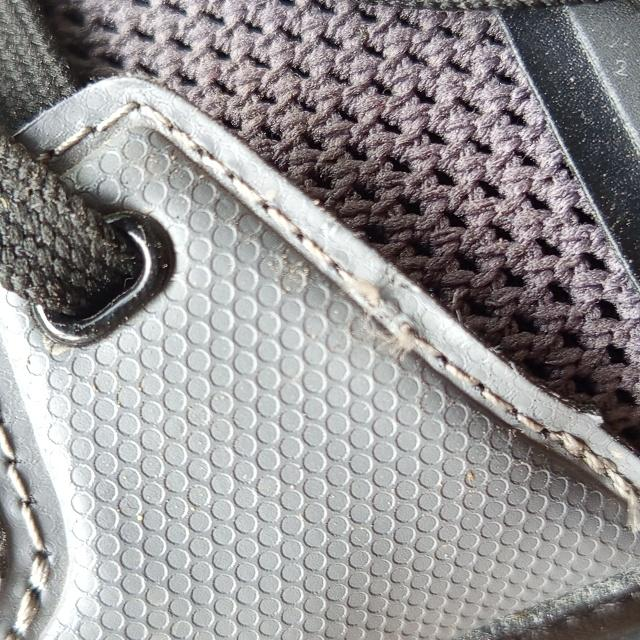broken: (359, 274, 425, 354)
